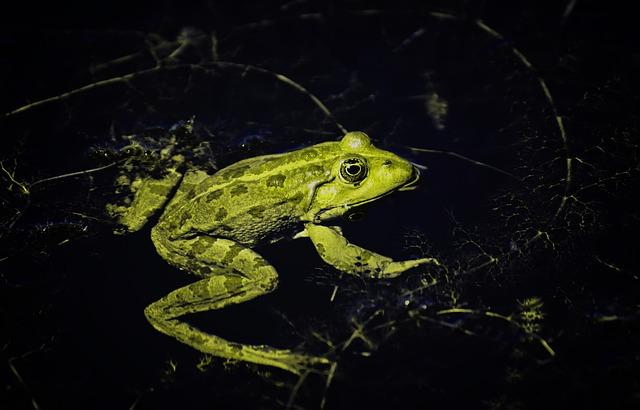Non_Gorille: (81, 43, 498, 403)
